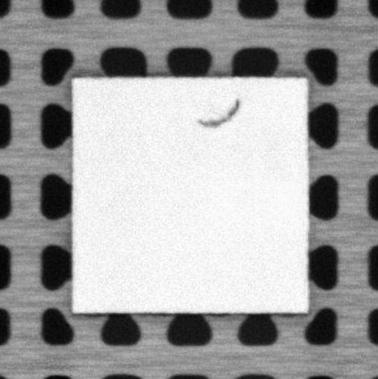DIE_INK: (195, 99, 242, 128)
